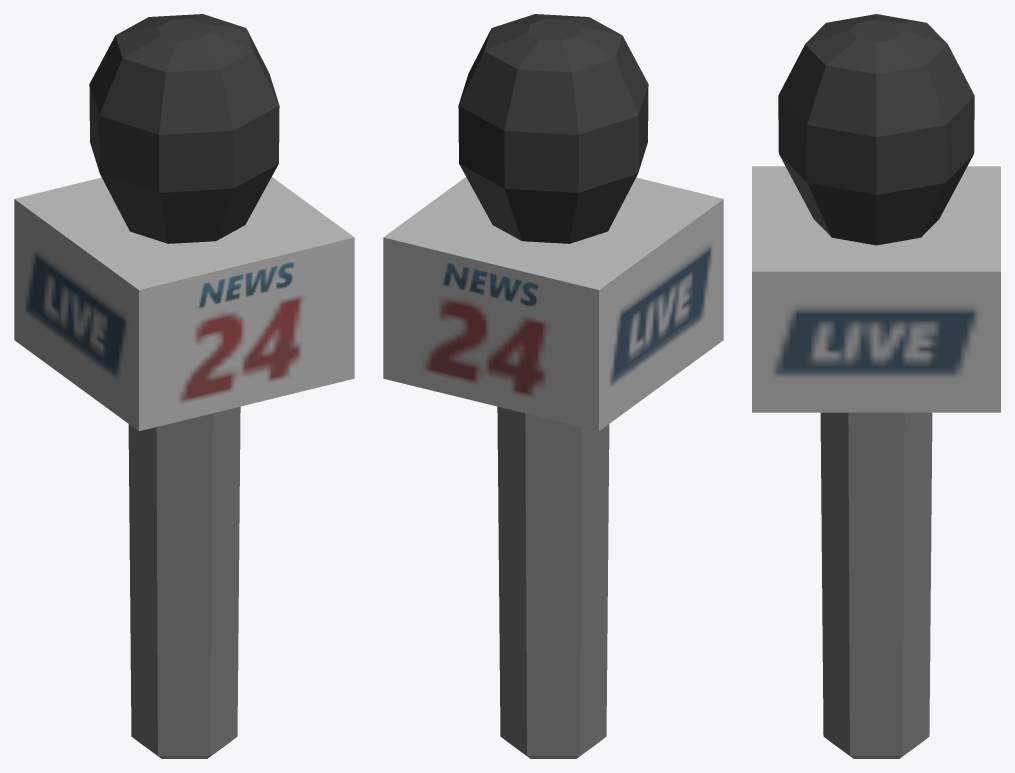
File: SM_Props_News_Mic.fbx
3 renders of one model, left to right at view 1: azimuth 30°, elevation 25°; view 2: azimuth 150°, elevation 25°; view 3: azimuth 270°, elevation 25°, orthographic.
Parts seen in each view (by area): view 1: SM_Props_News_Mic; view 2: SM_Props_News_Mic; view 3: SM_Props_News_Mic.
Boxes of the visible parts, x1,y1,x2,y2 form: SM_Props_News_Mic: [14, 14, 354, 758]; SM_Props_News_Mic: [383, 14, 723, 758]; SM_Props_News_Mic: [752, 14, 1000, 758].
Bounding box in the file's own units: 14.4 × 45.4 × 14.4.
